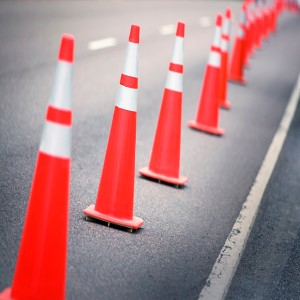traffic cone: (1, 34, 76, 300), (82, 24, 144, 233), (139, 21, 190, 188), (189, 14, 224, 137)
